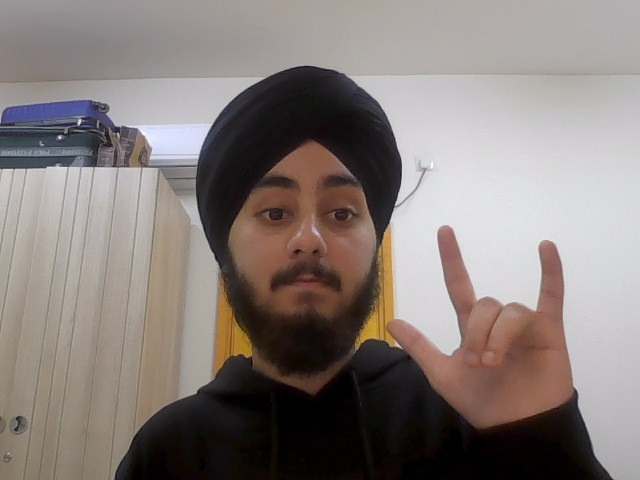ILoveYou: (385, 223, 595, 427)
